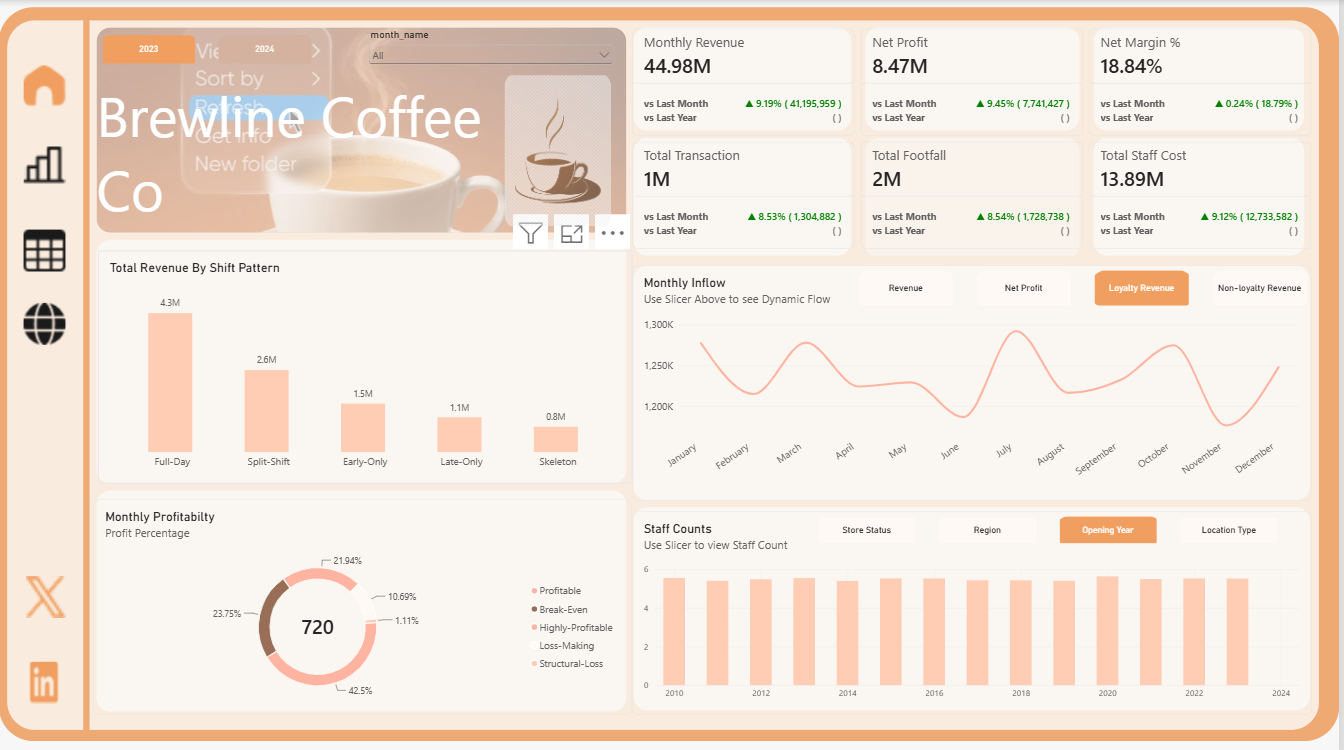

The page's visual inventory and layout, read from the dashboard file:
{"tool":"powerbi","page":{"name":"Exec_Page","canvas":[1920,1080],"ordinal":0},"visuals":[{"type":"clusteredColumnChart","title":"Staff Counts","fields":{"Category":["dim_store.opening_year"],"Y":["Measure.Total_staff_counts"]},"box":[906.6,732.5,973.5,291.1],"z":0},{"type":"cardVisual","fields":{"Data":["Measure.Total_monthly_revenue","Measure.Total_net_profit_gbp","Measure.Net Profit Margin %","Measure.total_transaction_sum","Measure.Total_footfall","fact_store_monthly_profitability.Total_monthly_staff_costing"]},"box":[906.6,40.6,973.5,317.3],"z":1000},{"type":"lineChart","title":"Monthly Inflow","fields":{"Category":["dim_date.month_name"],"Y":["Measure.Total_loyalty_revenue"]},"box":[906.6,379.4,973.5,336.4],"z":2000},{"type":"advancedSlicerVisual","fields":{"Values":["Store_parameter_details.Store_parameter_details"]},"box":[1159.6,732.5,684.8,54.9],"z":3000},{"type":"donutChart","title":"Monthly Profitabilty ","fields":{"Category":["fact_store_monthly_profitability.profitability_status"],"Y":["Measure.Monthly_stroe_profitabily_count"]},"box":[136,715.8,770.7,307.8],"z":4000},{"type":"clusteredColumnChart","title":"Total Revenue By Shift Pattern","fields":{"Category":["fact_daily_sales.shift_pattern"],"Y":["Measure.Total_revenue"]},"box":[140.8,357.9,765.9,334],"z":5000},{"type":"actionButton","box":[17.1,75.7,95.7,94.3],"z":6000},{"type":"actionButton","box":[17.1,190,95.7,94.3],"z":7000},{"type":"actionButton","box":[17.1,311.4,95.7,94.3],"z":8000},{"type":"actionButton","box":[16.7,412.8,95.4,102.6],"z":9000},{"type":"actionButton","box":[17.5,930,95.7,94.3],"z":10000},{"type":"actionButton","box":[18.6,807.1,95.7,94.3],"z":11000},{"type":"advancedSlicerVisual","fields":{"Values":["dim_date.year"]},"box":[136,42.9,324.5,57.3],"z":12000},{"type":"slicer","fields":{"Values":["dim_date.month_name"]},"box":[524.9,40.6,360.3,59.6],"z":13000},{"type":"textbox","box":[140,110,603.3,233.3],"z":14000},{"type":"image","box":[725,102.5,152.5,225],"z":15000},{"type":"advancedSlicerVisual","fields":{"Values":["Exc_line_parameter.Exc_line_parameter"]},"box":[1219.2,379.4,668.1,66.8],"z":15501}]}

Visuals, with their boxes on the page's 1920x1080 design canvas (x1, y1, x2, y2). These are canvas units, not pixel positions in the 1344x750 screenshot, which may show the page scaled, cropped or inside an application window:
"Staff Counts" clusteredColumnChart: crop(907, 732, 1880, 1024)
cardVisual - Measure.Total_monthly_revenue x Measure.Total_net_profit_gbp: crop(907, 41, 1880, 358)
"Monthly Inflow" lineChart: crop(907, 379, 1880, 716)
advancedSlicerVisual - Store_parameter_details.Store_parameter_details: crop(1160, 732, 1844, 787)
"Monthly Profitabilty " donutChart: crop(136, 716, 907, 1024)
"Total Revenue By Shift Pattern" clusteredColumnChart: crop(141, 358, 907, 692)
actionButton: crop(17, 76, 113, 170)
actionButton: crop(17, 190, 113, 284)
actionButton: crop(17, 311, 113, 406)
actionButton: crop(17, 413, 112, 515)
actionButton: crop(18, 930, 113, 1024)
actionButton: crop(19, 807, 114, 901)
advancedSlicerVisual - dim_date.year: crop(136, 43, 460, 100)
slicer - dim_date.month_name: crop(525, 41, 885, 100)
textbox: crop(140, 110, 743, 343)
image: crop(725, 102, 878, 328)
advancedSlicerVisual - Exc_line_parameter.Exc_line_parameter: crop(1219, 379, 1887, 446)
